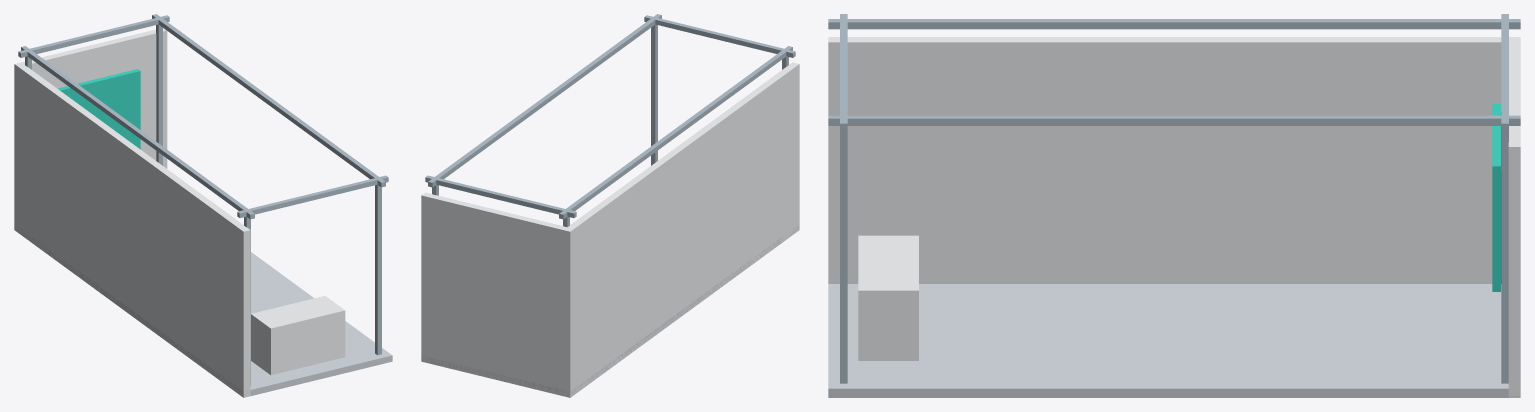
The picture shows the model from 3 angles, left to right: view 1: azimuth 30°, elevation 25°; view 2: azimuth 150°, elevation 25°; view 3: azimuth 270°, elevation 25°; orthographic projection. The views are drawn at different scales.
Visible parts, largest first — view 1: Exhibition Booth Concept; view 2: Exhibition Booth Concept; view 3: Exhibition Booth Concept.
Boxes of the visible parts, <box> form: Exhibition Booth Concept: <box>14,14,392,397</box>; Exhibition Booth Concept: <box>421,14,799,397</box>; Exhibition Booth Concept: <box>828,14,1520,397</box>.
Bounding box in the file's own units: 3 × 3.49 × 8.
